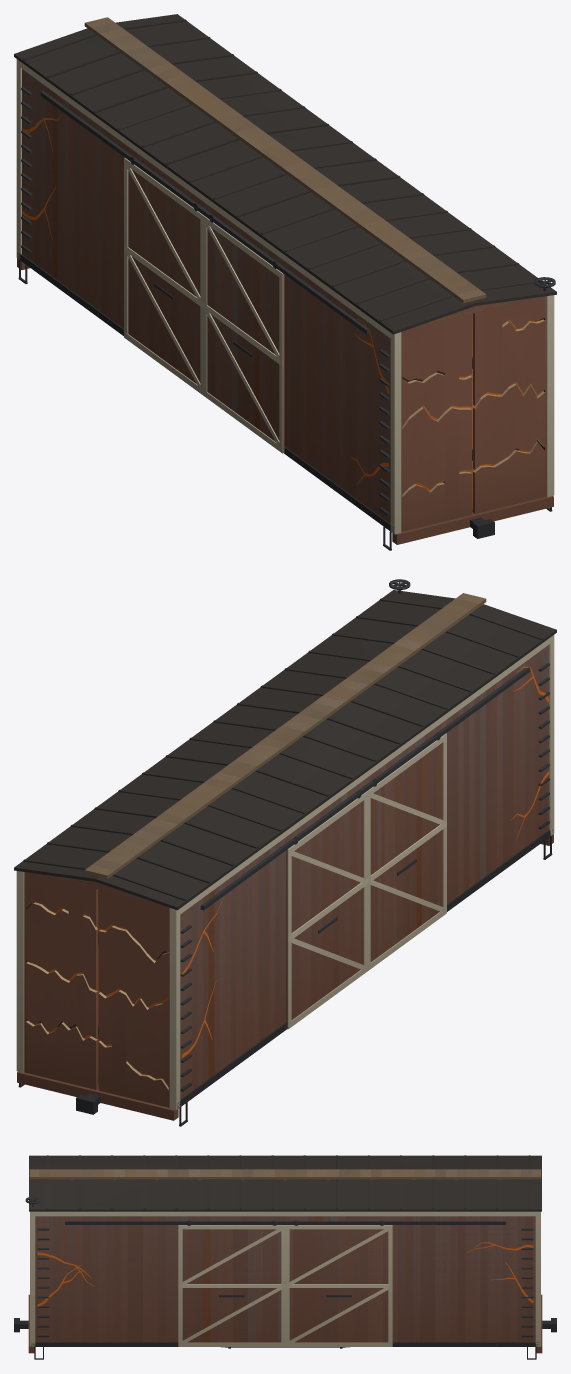
File: smash.glb
The picture shows the model from 3 angles, top to bottom: view 1: azimuth 30°, elevation 25°; view 2: azimuth 150°, elevation 25°; view 3: azimuth 270°, elevation 25°; orthographic projection. The views are drawn at different scales.
Visible parts, largest first — view 1: Body, Far, Door_LB, Door_LF, Shard_B13, Shard_B14, Shard_B21, Shard_B24, Shard_B06, Shard_B35, Shard_B02, Shard_B23 (+17 smaller); view 2: Body, Far, Door_LF, Door_LB, Shard_F13, Shard_F26, Shard_F02, Shard_F06, Shard_F22, Shard_F29, Shard_F14, Shard_F10 (+21 smaller); view 3: Body, Far, Door_RF, Door_RB.
Part boxes in pixels (box(x1,y1,x2,y2)): Body: box(14, 14, 556, 550); Far: box(22, 17, 554, 522); Door_LB: box(203, 215, 284, 453); Door_LF: box(124, 157, 203, 395); Shard_B13: box(443, 407, 459, 521); Shard_B14: box(443, 317, 459, 411); Shard_B21: box(473, 310, 487, 405); Shard_B24: box(488, 306, 502, 393); Shard_B06: box(415, 407, 430, 489); Shard_B35: box(529, 319, 544, 395); Shard_B02: box(402, 412, 416, 493); Shard_B23: box(486, 393, 502, 464); Body: box(14, 579, 556, 1126); Far: box(24, 579, 537, 1107); Door_LF: box(286, 790, 367, 1029); Door_LB: box(367, 732, 446, 970); Shard_F13: box(111, 990, 127, 1096); Shard_F26: box(68, 882, 84, 979); Shard_F02: box(154, 999, 168, 1086); Shard_F06: box(140, 998, 154, 1077); Shard_F22: box(83, 915, 97, 989); Shard_F29: box(54, 909, 68, 979); Shard_F14: box(111, 925, 126, 992); Shard_F10: box(126, 994, 139, 1072); Body: box(14, 1155, 556, 1359); Far: box(26, 1169, 540, 1342); Door_RF: box(285, 1220, 392, 1346); Door_RB: box(178, 1220, 285, 1346).
Size of the model in its own units: 6 by 8.27 by 25.36.
